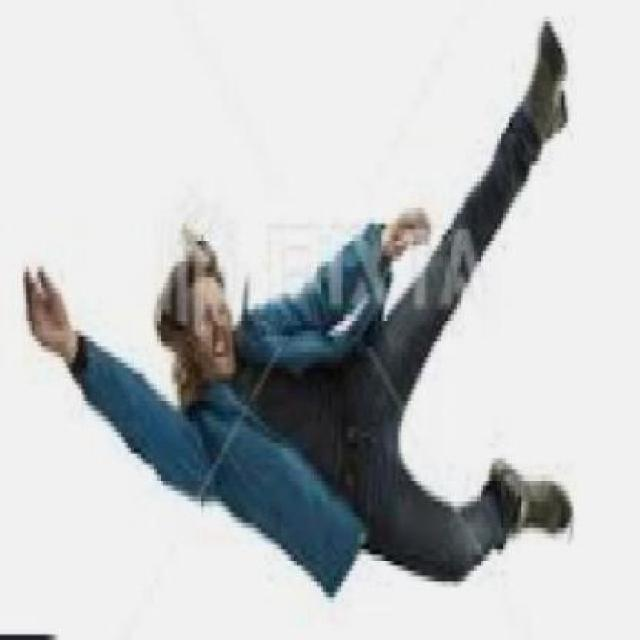fall: (21, 16, 577, 581)
